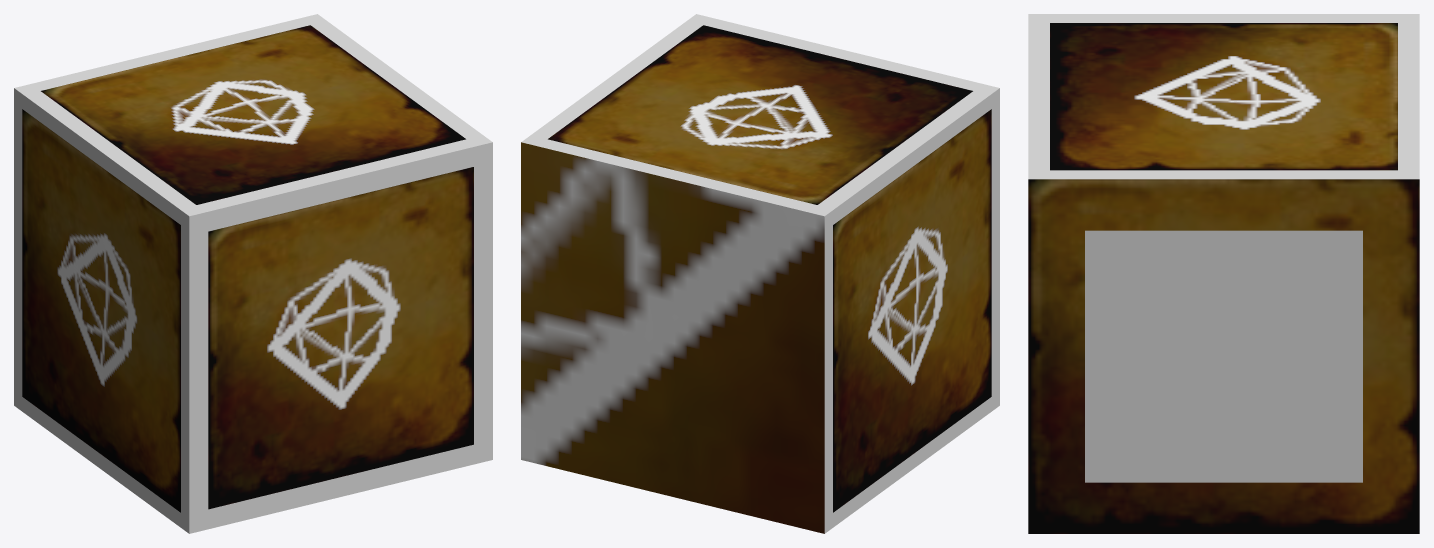
Rendered from lockcrystal.glb.
3 renders of one model, left to right at view 1: azimuth 30°, elevation 25°; view 2: azimuth 150°, elevation 25°; view 3: azimuth 270°, elevation 25°, orthographic. The views are drawn at different scales.
Visible parts, largest first — view 1: Cube; view 2: Cube; view 3: Cube.
Part boxes in pixels (<box>): Cube: <box>14,14,492,533</box>; Cube: <box>521,14,999,533</box>; Cube: <box>1028,14,1419,533</box>.
Size of the model in its own units: 1 by 1 by 1.
Materials: 2 (1 with a texture image).
